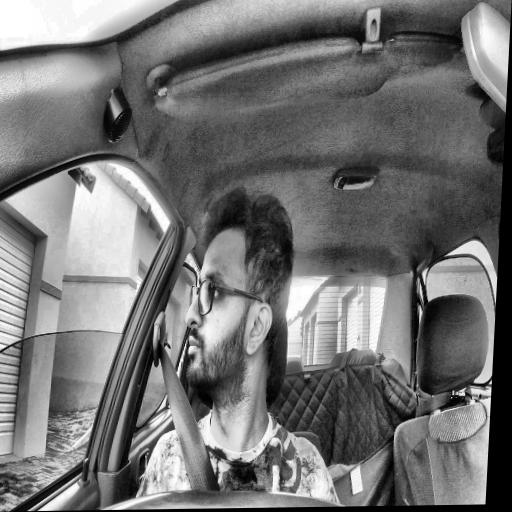awake: (181, 186, 298, 392)
